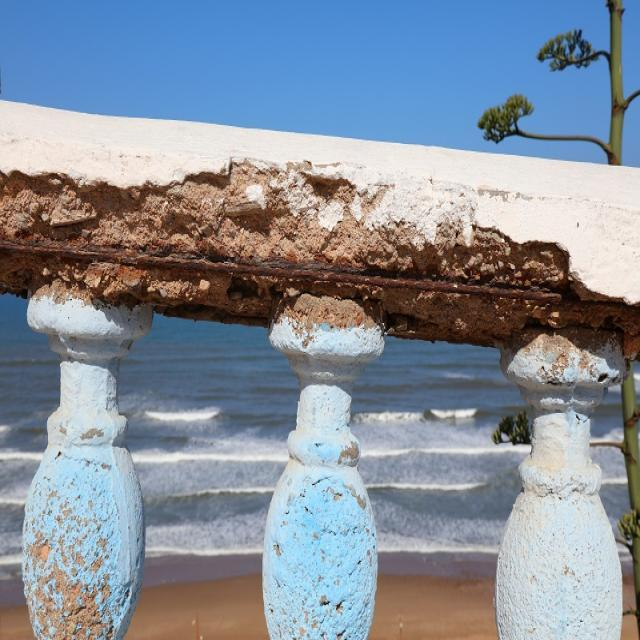spalling: (0, 162, 639, 360)
stain_mould: (4, 240, 577, 301)
